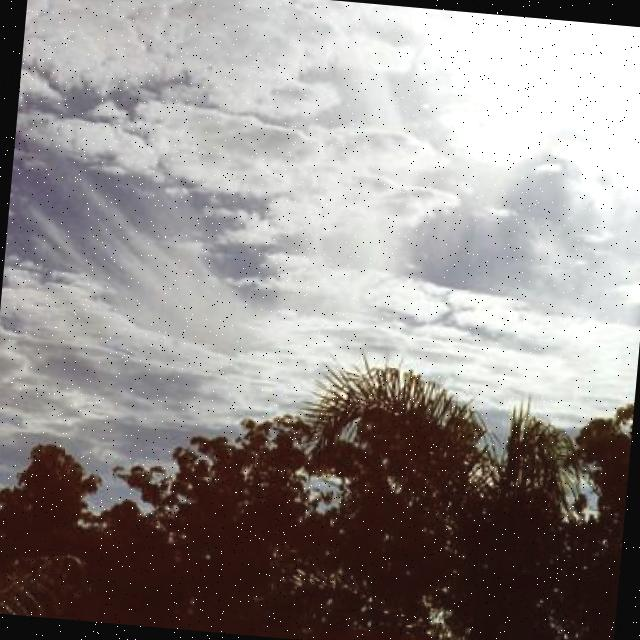Cs: (1, 1, 640, 371)
